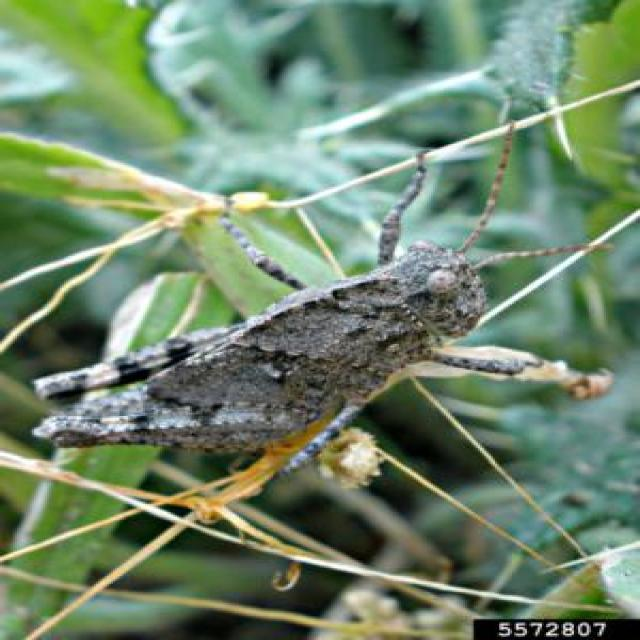antennae: (456, 121, 516, 247), (477, 246, 610, 267)
body: (33, 247, 487, 456)
insect: (28, 112, 615, 475)
legs: (48, 393, 336, 468), (34, 330, 242, 400), (220, 200, 314, 292), (378, 156, 433, 267), (423, 349, 549, 374)
mouthpart: (431, 300, 488, 334)
wings: (52, 292, 394, 439)
